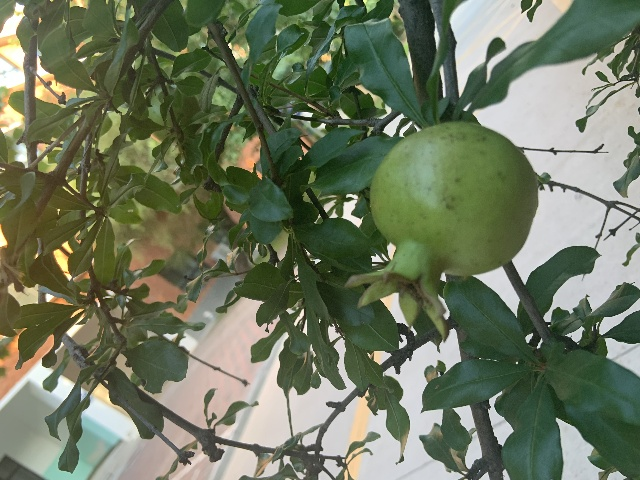mid-growth: (344, 121, 540, 340)
